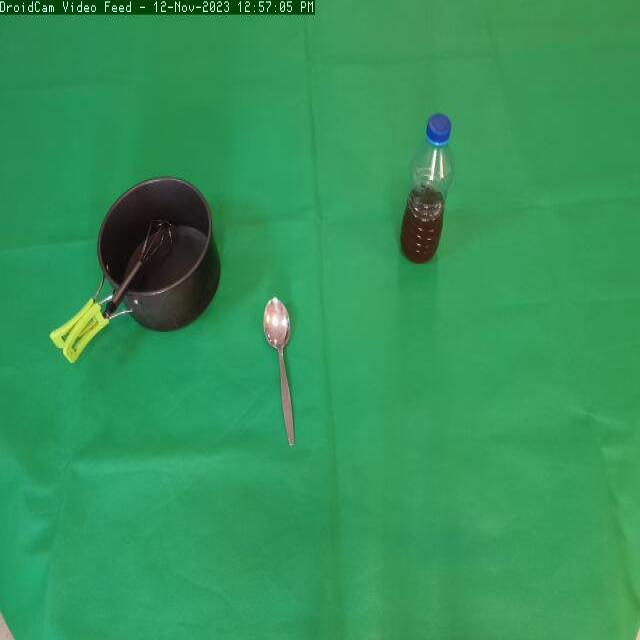fullbottle: (397, 106, 460, 276)
pot: (52, 172, 227, 371)
spoon: (260, 292, 310, 458)
whisk: (103, 212, 179, 326)
